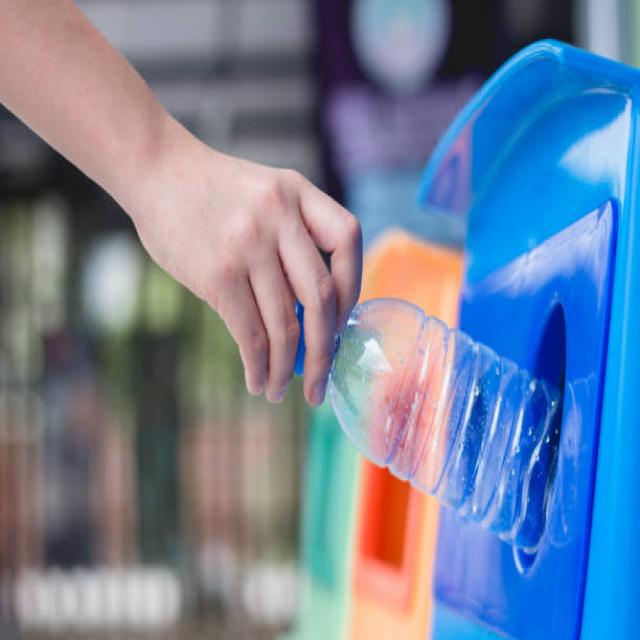plastic: (303, 296, 552, 550)
